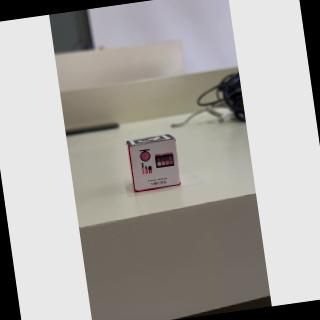Expired_Cosmetic: (129, 138, 186, 195)
